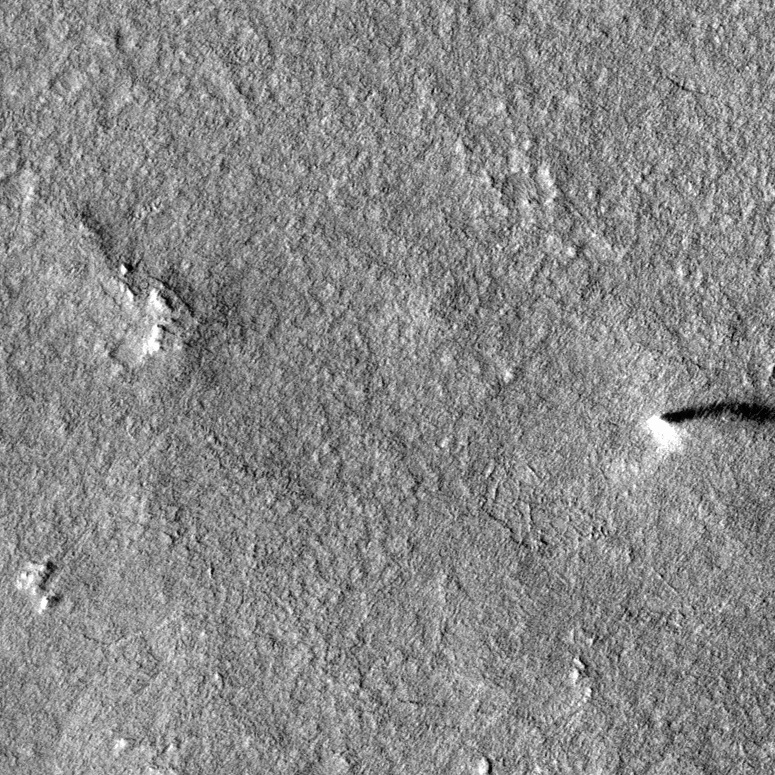dust_devil: (646, 399, 775, 456)
